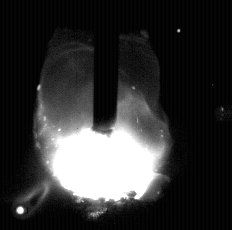arame: (94, 0, 118, 137)
poca: (36, 0, 172, 230)
